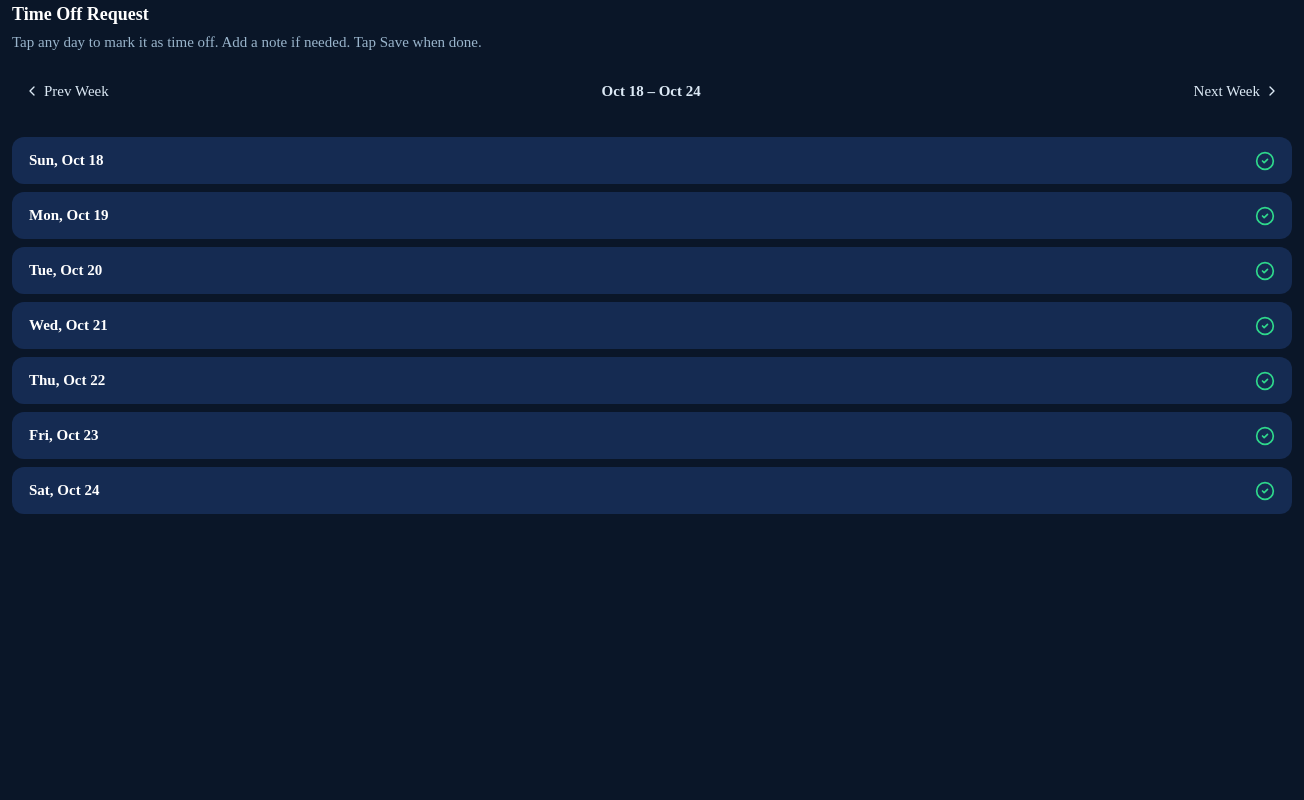
crew time off — a failure says whether the connection is the cause › names being offline as the reason, rather than telling them to retry
The image size is (1304, 800).
Click the button "Sun, Oct 18" at (66, 160), box [13,138,1291,183]
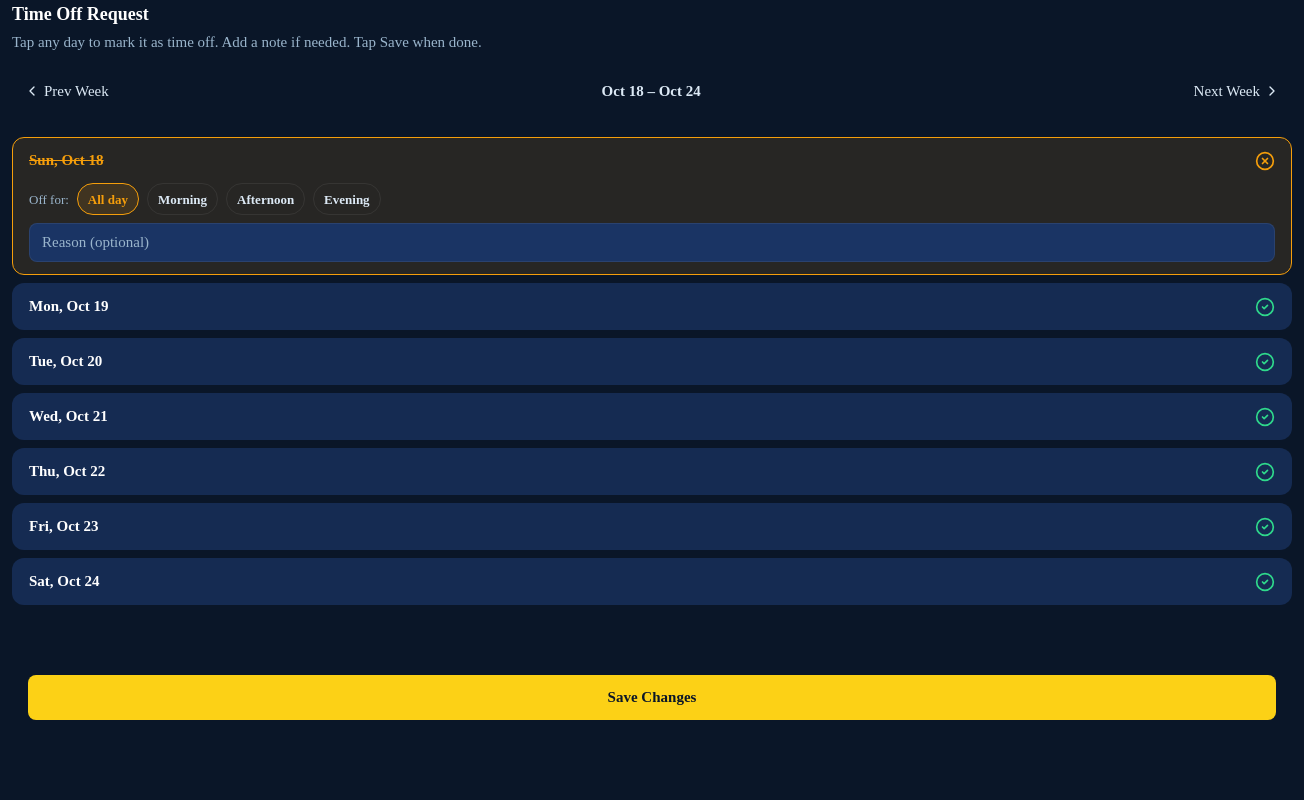
Click the button "Save Changes" at (652, 698), box [28,675,1276,720]
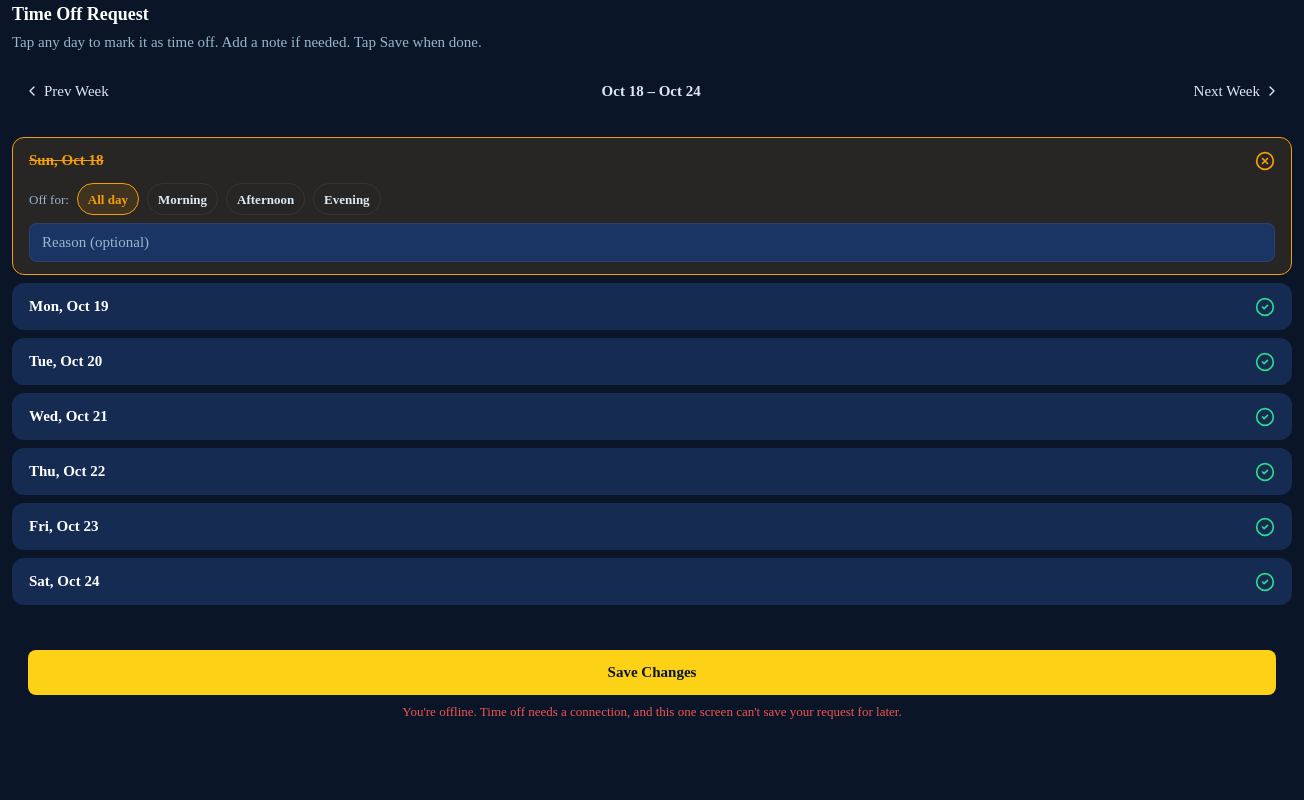
Now the text "offline" is shown, box [402,704,902,719]
